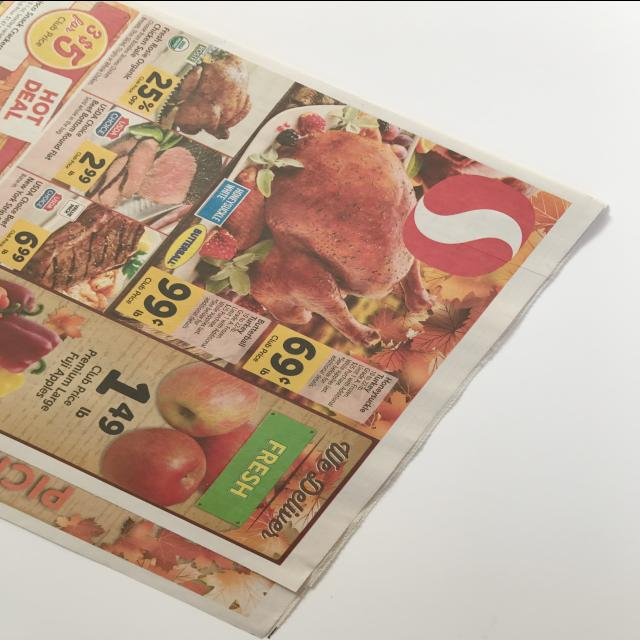Paper: (1, 0, 610, 640)
